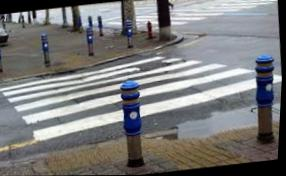Animal: (115, 79, 150, 160), (251, 50, 281, 138), (39, 32, 55, 64), (83, 24, 97, 55), (125, 19, 137, 50), (0, 38, 6, 69)
